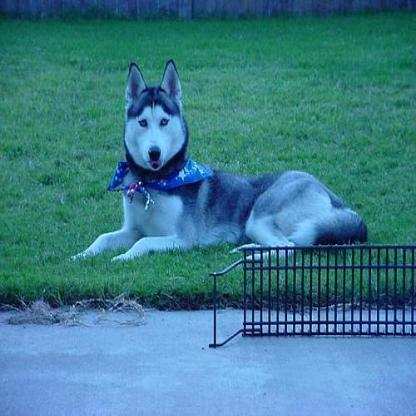Siberian_husky: (66, 54, 368, 262)
